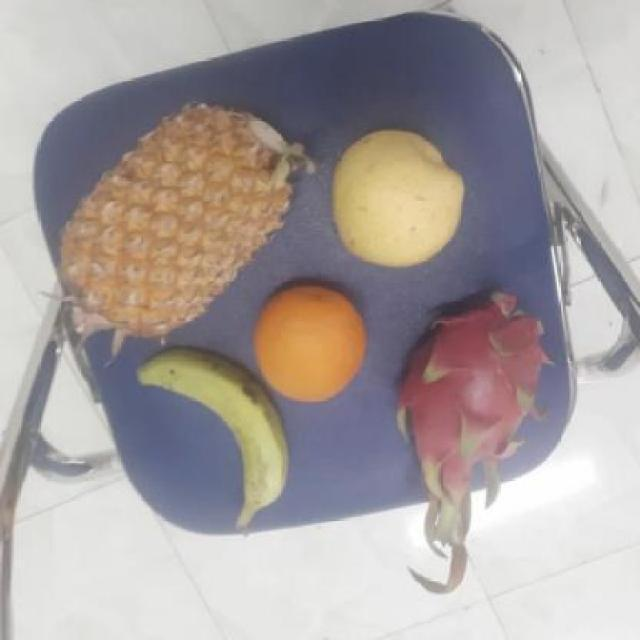dragon fruit: (394, 287, 552, 491)
oren: (251, 283, 374, 406)
pear: (326, 130, 469, 268)
pineapple: (45, 92, 300, 341)
